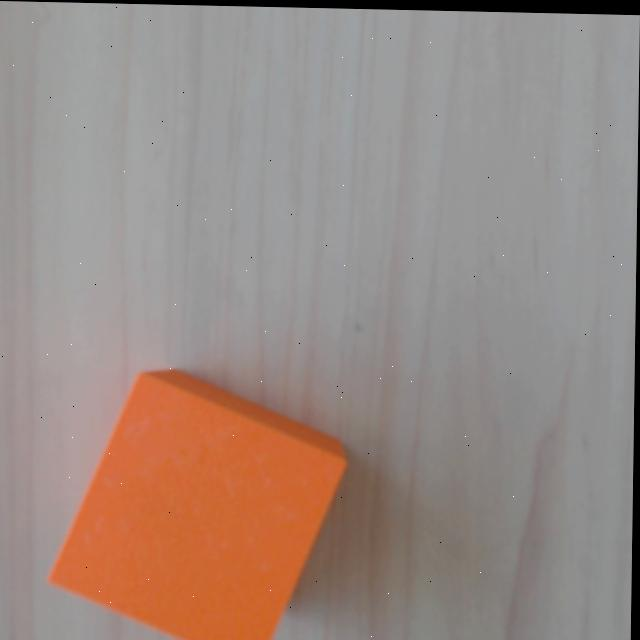Kubus-Jingga-505050: (47, 355, 356, 640)
